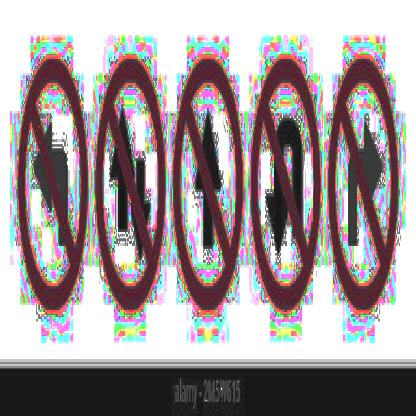No U-turn: (249, 56, 322, 314)
